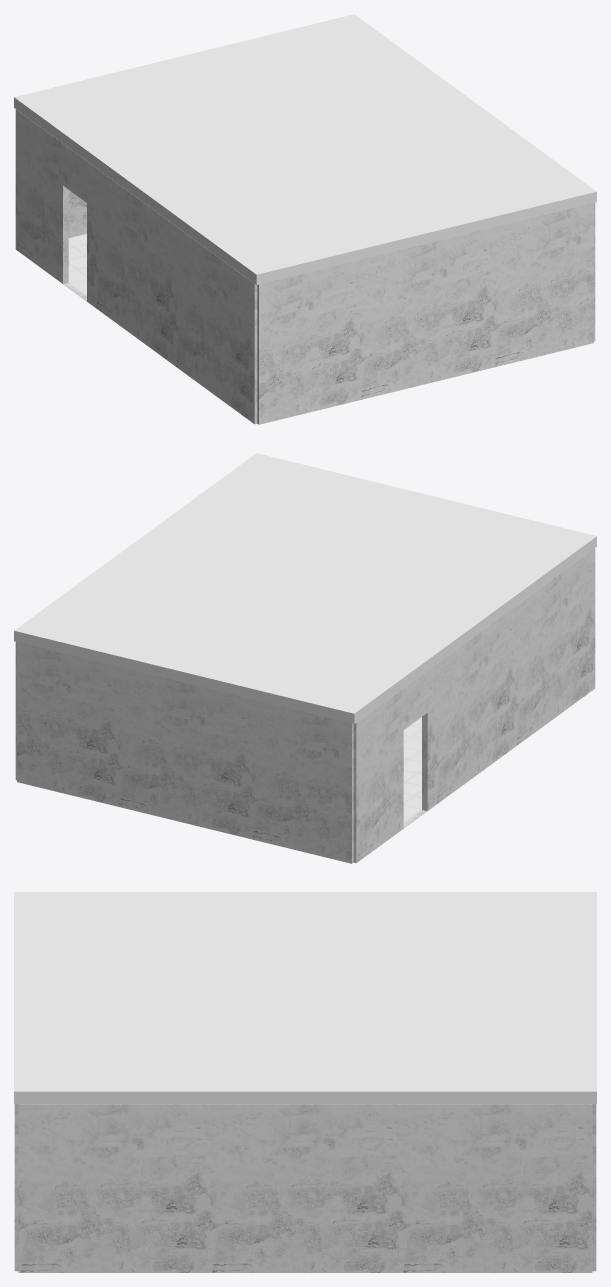
The model's file is bathroom.glb.
The picture shows the model from 3 angles, top to bottom: view 1: azimuth 30°, elevation 25°; view 2: azimuth 150°, elevation 25°; view 3: azimuth 270°, elevation 25°; orthographic projection. The views are drawn at different scales.
Parts seen in each view (by area): view 1: Roof_Flat, Wall_3, Wall_2, Floor, Wall_1; view 2: Roof_Flat, Wall_1, Wall_2, Floor; view 3: Roof_Flat, Wall_4, Wall_1, Wall_3.
Part boxes in pixels (left/top/right/bottom): Roof_Flat: left=14, top=14, right=596, bottom=284; Wall_3: left=257, top=203, right=593, bottom=424; Wall_2: left=15, top=109, right=257, bottom=424; Floor: left=68, top=234, right=86, bottom=295; Wall_1: left=68, top=190, right=86, bottom=237; Roof_Flat: left=14, top=453, right=596, bottom=723; Wall_1: left=17, top=642, right=353, bottom=863; Wall_2: left=353, top=548, right=595, bottom=863; Floor: left=403, top=717, right=421, bottom=822; Roof_Flat: left=14, top=892, right=596, bottom=1103; Wall_4: left=18, top=1104, right=592, bottom=1272; Wall_1: left=592, top=1104, right=596, bottom=1271; Wall_3: left=14, top=1104, right=18, bottom=1271.
Bounding box in the file's own units: 11.95 × 5.06 × 14.74.
Materials: 3 (3 with a texture image).
